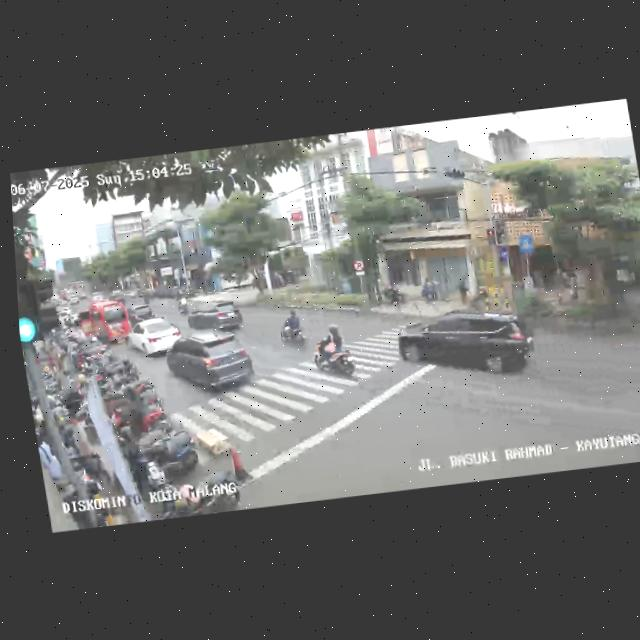car: (392, 302, 542, 389), (161, 327, 256, 399), (181, 289, 245, 338), (75, 298, 131, 349), (124, 315, 184, 360), (123, 302, 158, 329)
motorcycle: (308, 322, 359, 385), (276, 308, 307, 346)
